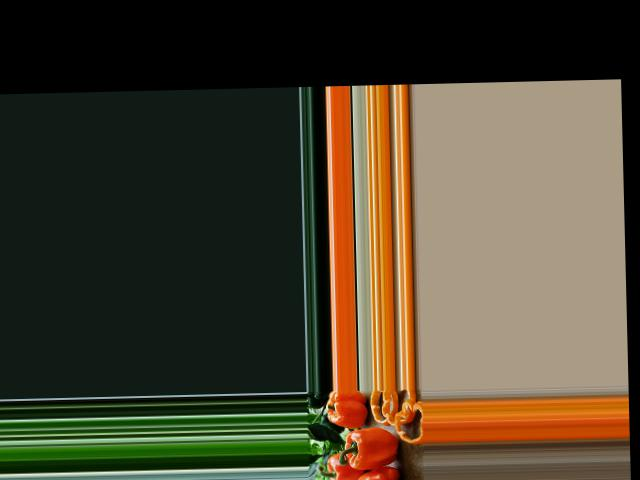bell_pepper: (353, 466, 403, 480)
